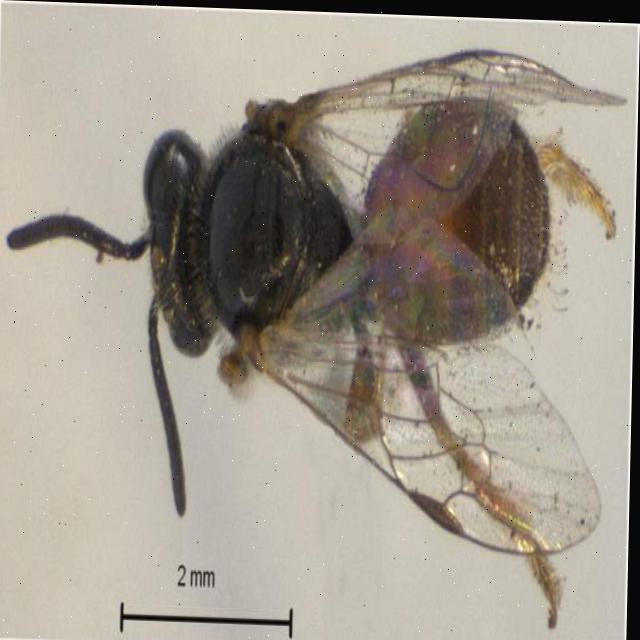Allodapula: (11, 14, 640, 588)
